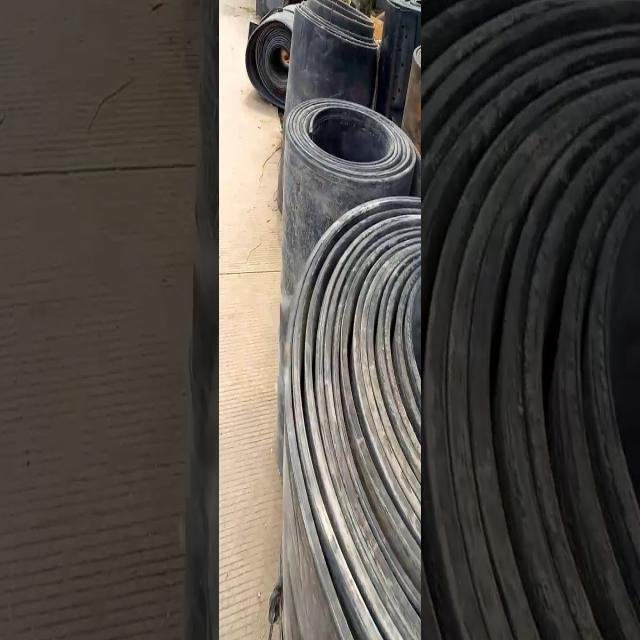conveyor: (251, 2, 430, 640)
